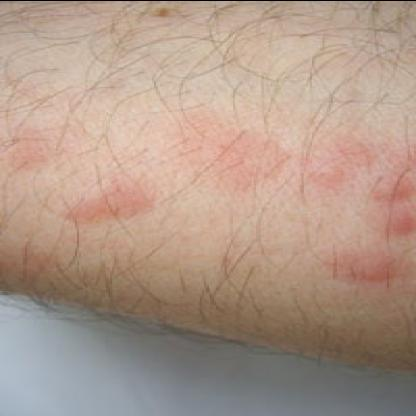Bed Bug: (160, 114, 287, 194), (62, 174, 152, 226), (306, 130, 372, 190), (4, 122, 52, 174), (383, 156, 414, 235)
